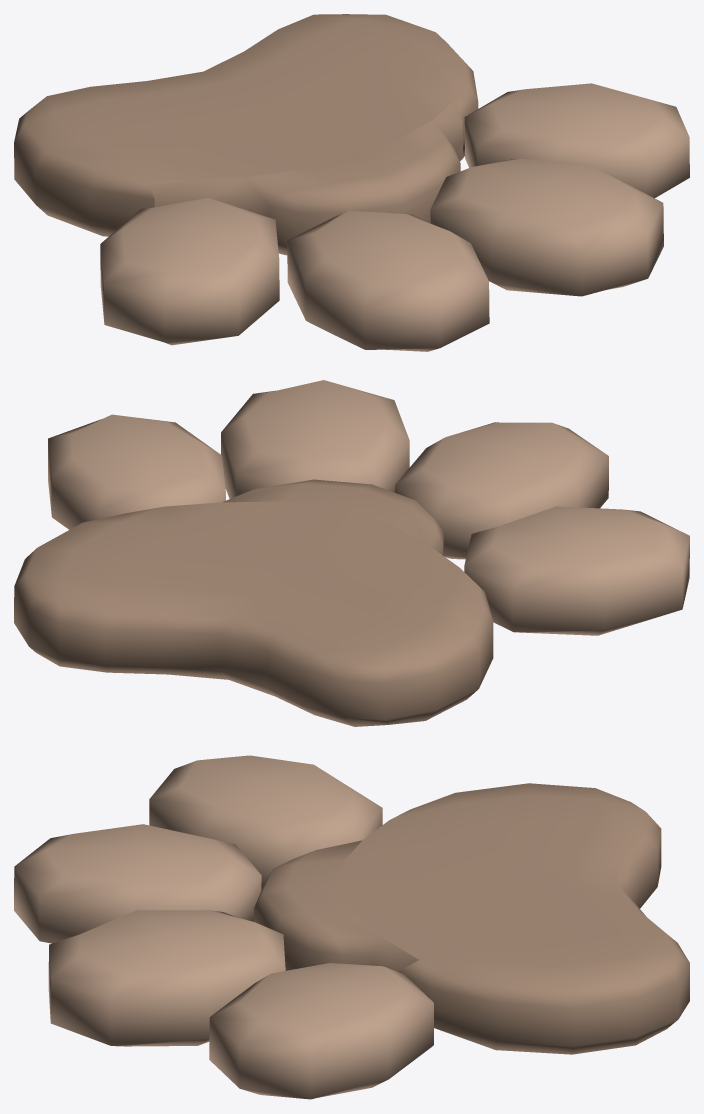
The model's file is uploads-files-2312323-Paw.fbx.
3 views of the same model, one above another, from view 1: azimuth 30°, elevation 25°; view 2: azimuth 150°, elevation 25°; view 3: azimuth 270°, elevation 25° (orthographic). The views are drawn at different scales.
Visible parts, largest first — view 1: group7; view 2: group7; view 3: group7.
Boxes of the visible parts, left/top/right/bottom form: group7: left=14, top=14, right=689, bottom=351; group7: left=14, top=380, right=689, bottom=726; group7: left=14, top=755, right=689, bottom=1099.
Size of the model in its own units: 2.86 by 0.4035 by 2.67.
